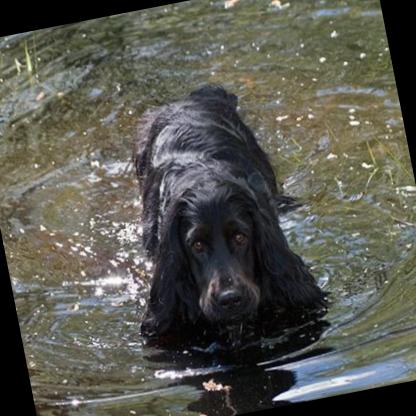cocker_spaniel: (94, 69, 331, 356)
